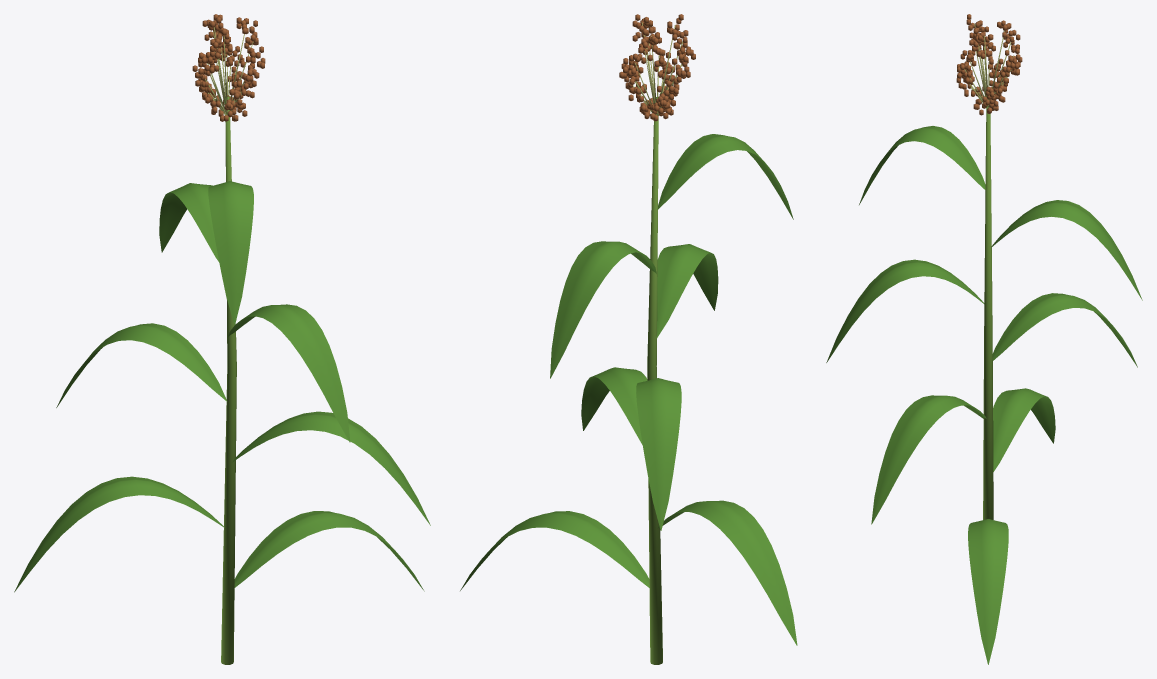
The model's file is sorghum.glb.
3 renders of one model, left to right at view 1: azimuth 30°, elevation 25°; view 2: azimuth 150°, elevation 25°; view 3: azimuth 270°, elevation 25°, orthographic. The views are drawn at different scales.
Parts seen in each view (by area): view 1: Sorghum_Arching_Leaves, Sorghum_Strong_Culm, Sorghum_Dense_Seed_Head, Sorghum_Compact_Panicle_Branches; view 2: Sorghum_Arching_Leaves, Sorghum_Strong_Culm, Sorghum_Dense_Seed_Head, Sorghum_Compact_Panicle_Branches; view 3: Sorghum_Arching_Leaves, Sorghum_Strong_Culm, Sorghum_Dense_Seed_Head, Sorghum_Compact_Panicle_Branches.
Boxes of the visible parts, x1=… form: Sorghum_Arching_Leaves: x1=14, y1=181, x2=430, y2=592; Sorghum_Strong_Culm: x1=221, y1=96, x2=236, y2=664; Sorghum_Dense_Seed_Head: x1=192, y1=14, x2=265, y2=121; Sorghum_Compact_Panicle_Branches: x1=205, y1=27, x2=255, y2=115; Sorghum_Arching_Leaves: x1=460, y1=134, x2=797, y2=645; Sorghum_Strong_Culm: x1=647, y1=97, x2=662, y2=664; Sorghum_Dense_Seed_Head: x1=619, y1=14, x2=695, y2=121; Sorghum_Compact_Panicle_Branches: x1=633, y1=22, x2=682, y2=115; Sorghum_Arching_Leaves: x1=826, y1=126, x2=1142, y2=664; Sorghum_Strong_Culm: x1=983, y1=95, x2=993, y2=519; Sorghum_Dense_Seed_Head: x1=956, y1=14, x2=1022, y2=115; Sorghum_Compact_Panicle_Branches: x1=964, y1=24, x2=1013, y2=107.
Size of the model in its own units: 0.9116 by 1.5 by 0.7435.
